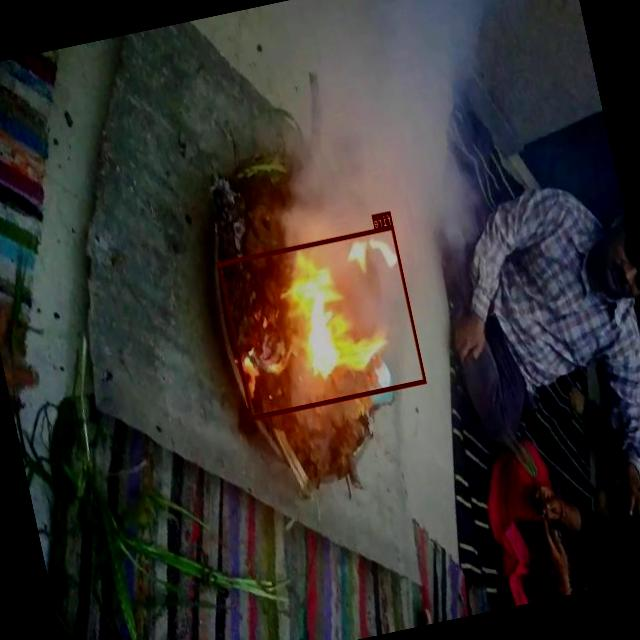fire: (218, 224, 427, 419)
